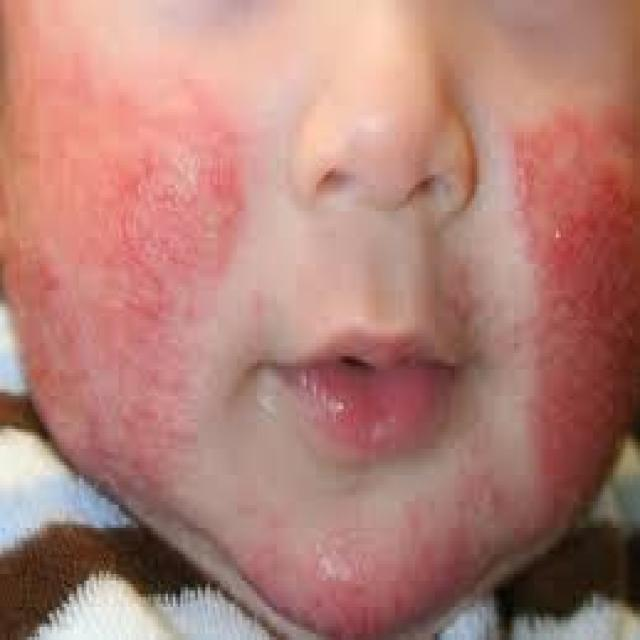Eczema: (11, 50, 220, 508), (491, 96, 640, 518), (205, 498, 518, 640)
